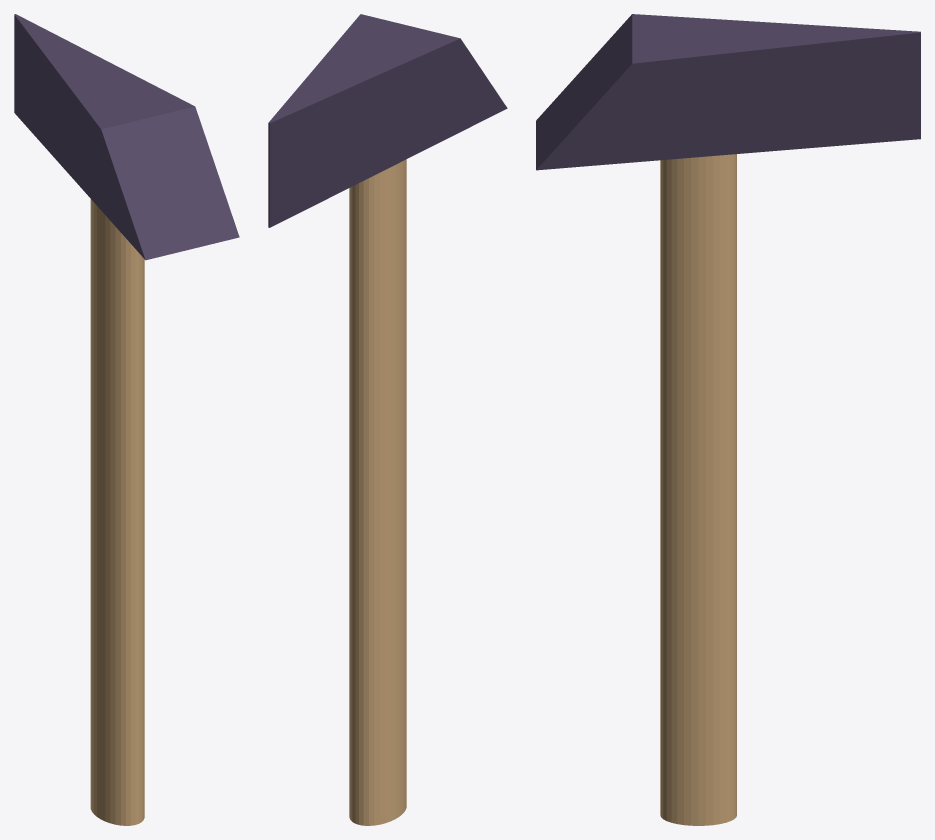
The model's file is Axt.fbx.
3 renders of one model, left to right at view 1: azimuth 30°, elevation 25°; view 2: azimuth 150°, elevation 25°; view 3: azimuth 270°, elevation 25°, orthographic. The views are drawn at different scales.
Visible parts, largest first — view 1: Cylinder, Cube; view 2: Cylinder, Cube; view 3: Cylinder, Cube.
Boxes of the visible parts, box(x1,y1,x2,y2) form: Cylinder: box(90, 199, 144, 825); Cube: box(14, 14, 239, 260); Cylinder: box(349, 159, 406, 825); Cube: box(268, 14, 507, 227); Cylinder: box(660, 154, 736, 825); Cube: box(536, 14, 920, 170).
Bounding box in the file's own units: 200 × 1468 × 654.
